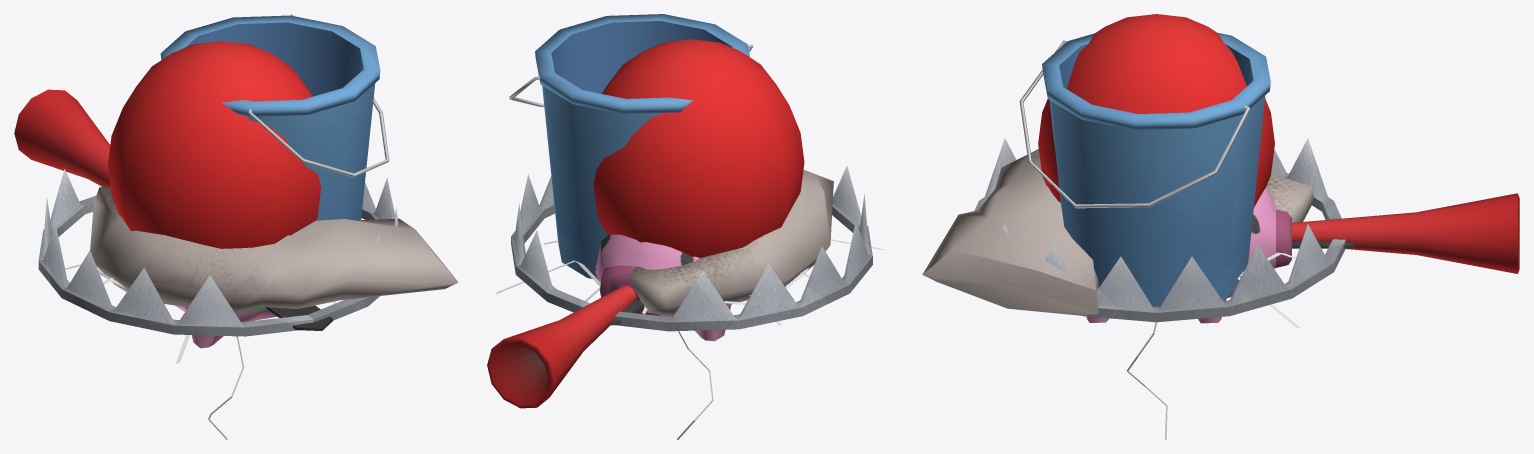
The model's file is Etcitem_0601.fbx.
3 views of the same model, side by side, from view 1: azimuth 30°, elevation 25°; view 2: azimuth 150°, elevation 25°; view 3: azimuth 270°, elevation 25° (orthographic). The views are drawn at different scales.
Parts seen in each view (by area): view 1: Etc_balloon, Etc_oldsocks, Etc_pail, Etc_trap, Etc_vuvuzela, Etc_piggybank; view 2: Etc_balloon, Etc_pail, Etc_trap, Etc_oldsocks, Etc_vuvuzela, Etc_piggybank, Etc_cobweb; view 3: Etc_pail, Etc_oldsocks, Etc_balloon, Etc_trap, Etc_vuvuzela, Etc_piggybank.
Boxes of the visible parts, x1,y1,x2,y2 form: Etc_balloon: (107, 41, 321, 439); Etc_oldsocks: (90, 186, 458, 312); Etc_pail: (160, 14, 389, 220); Etc_trap: (38, 169, 398, 336); Etc_vuvuzela: (14, 89, 110, 186); Etc_piggybank: (175, 305, 276, 348); Etc_balloon: (593, 39, 804, 439); Etc_pail: (509, 14, 753, 278); Etc_trap: (511, 165, 872, 331); Etc_oldsocks: (627, 170, 833, 316); Etc_vuvuzela: (487, 285, 636, 408); Etc_piggybank: (595, 234, 731, 341); Etc_cobweb: (495, 239, 883, 325); Etc_pail: (1019, 32, 1270, 306); Etc_oldsocks: (922, 149, 1314, 315); Etc_balloon: (1038, 14, 1274, 439); Etc_trap: (974, 138, 1355, 322); Etc_vuvuzela: (1292, 193, 1519, 273); Etc_piggybank: (1086, 187, 1291, 323).
Bounding box in the file's own units: 0.3257 × 0.3855 × 0.5063.
1 material, 1 textured.
